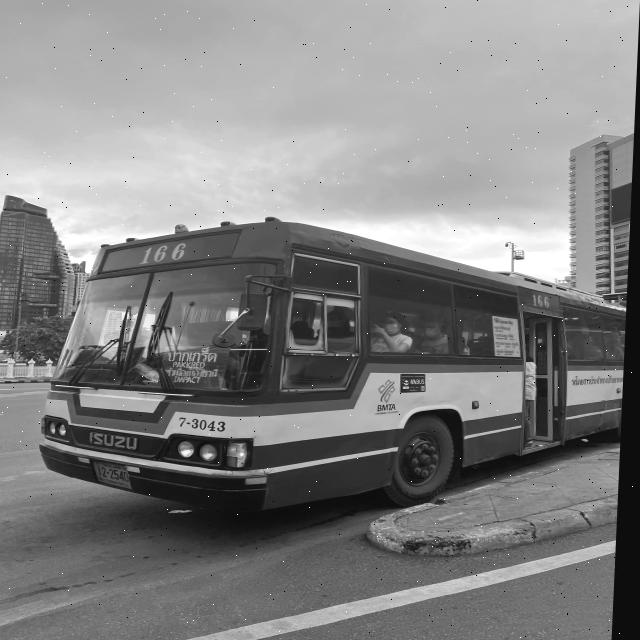BMTA-bus: (34, 212, 632, 522)
Bus-Line-Number: (143, 238, 192, 265)
Destination-Sign-Extra-Bus: (168, 345, 235, 395)
